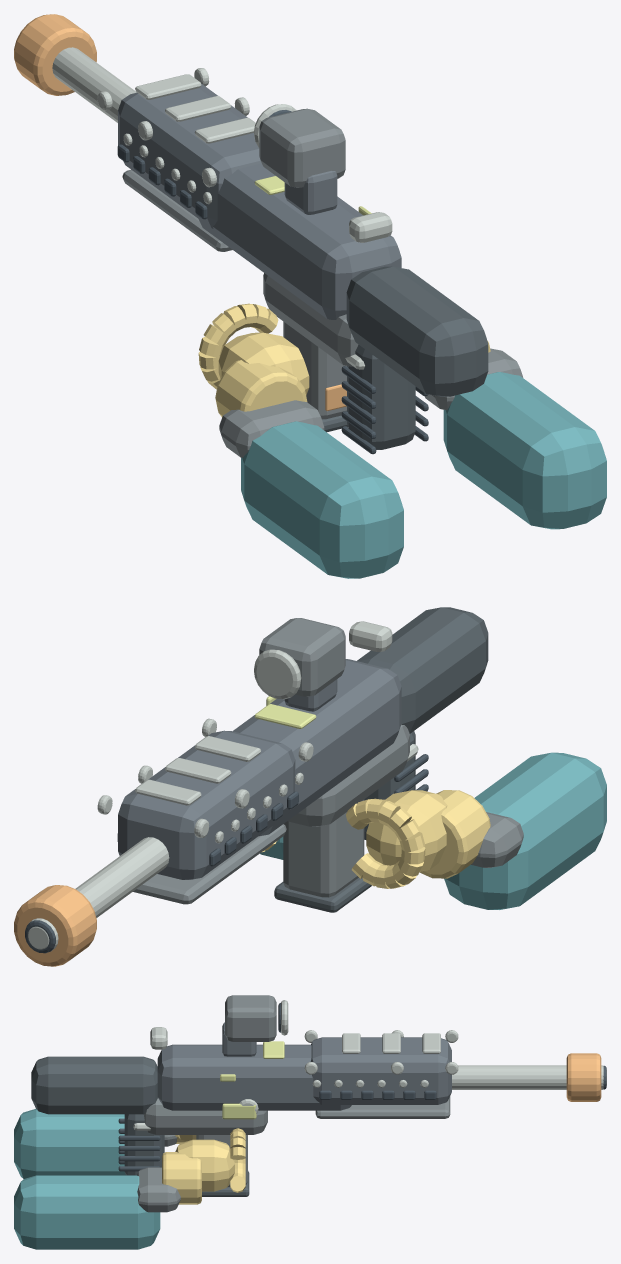
The model's file is aeg_viewmodel.glb.
3 renders of one model, top to bottom at view 1: azimuth 30°, elevation 25°; view 2: azimuth 150°, elevation 25°; view 3: azimuth 270°, elevation 25°, orthographic. The views are drawn at different scales.
Visible parts, largest first — view 1: BATCH_Minifigure team uniform, BATCH_Anodized graphite frame, BATCH_Matte black polymer, BATCH_Receiver polymer, BATCH_Brushed alloy highlights, BATCH_Classic yellow plastic hand, BATCH_Orange training muzzle, BATCH_Control microdetails; view 2: BATCH_Anodized graphite frame, BATCH_Receiver polymer, BATCH_Minifigure team uniform, BATCH_Brushed alloy highlights, BATCH_Matte black polymer, BATCH_Classic yellow plastic hand, BATCH_Orange training muzzle, BATCH_Control microdetails, BATCH_Airsoft safety accents; view 3: BATCH_Anodized graphite frame, BATCH_Minifigure team uniform, BATCH_Receiver polymer, BATCH_Matte black polymer, BATCH_Brushed alloy highlights, BATCH_Classic yellow plastic hand, BATCH_Control microdetails, BATCH_Orange training muzzle, BATCH_Airsoft safety accents.
Part boxes in pixels (x1,y1,x2,y2): BATCH_Minifigure team uniform: (241,372,606,578); BATCH_Anodized graphite frame: (118,83,401,319); BATCH_Matte black polymer: (322,266,488,449); BATCH_Receiver polymer: (122,108,523,457); BATCH_Brushed alloy highlights: (52,47,392,369); BATCH_Classic yellow plastic hand: (198,303,490,417); BATCH_Orange training muzzle: (14,14,346,411); BATCH_Control microdetails: (117,110,428,454); BATCH_Anodized graphite frame: (118,659,401,879); BATCH_Receiver polymer: (133,618,523,904); BATCH_Minifigure team uniform: (260,752,606,909); BATCH_Brushed alloy highlights: (28,621,418,951); BATCH_Matte black polymer: (274,607,488,912); BATCH_Classic yellow plastic hand: (261,790,490,888); BATCH_Orange training muzzle: (14,885,96,966); BATCH_Control microdetails: (25,754,428,953); BATCH_Airsoft safety accents: (254,696,316,728); BATCH_Anodized graphite frame: (157,1022,451,1110); BATCH_Minifigure team uniform: (14,1109,160,1249); BATCH_Receiver polymer: (137,995,450,1212); BATCH_Matte black polymer: (31,1056,249,1196); BATCH_Brushed alloy highlights: (133,1000,606,1130); BATCH_Classic yellow plastic hand: (162,1128,245,1204); BATCH_Control microdetails: (118,1003,606,1171); BATCH_Orange training muzzle: (566,1053,601,1101); BATCH_Airsoft safety accents: (220,1041,284,1119).
Size of the model in its own units: 0.775 by 0.808 by 2.07.
